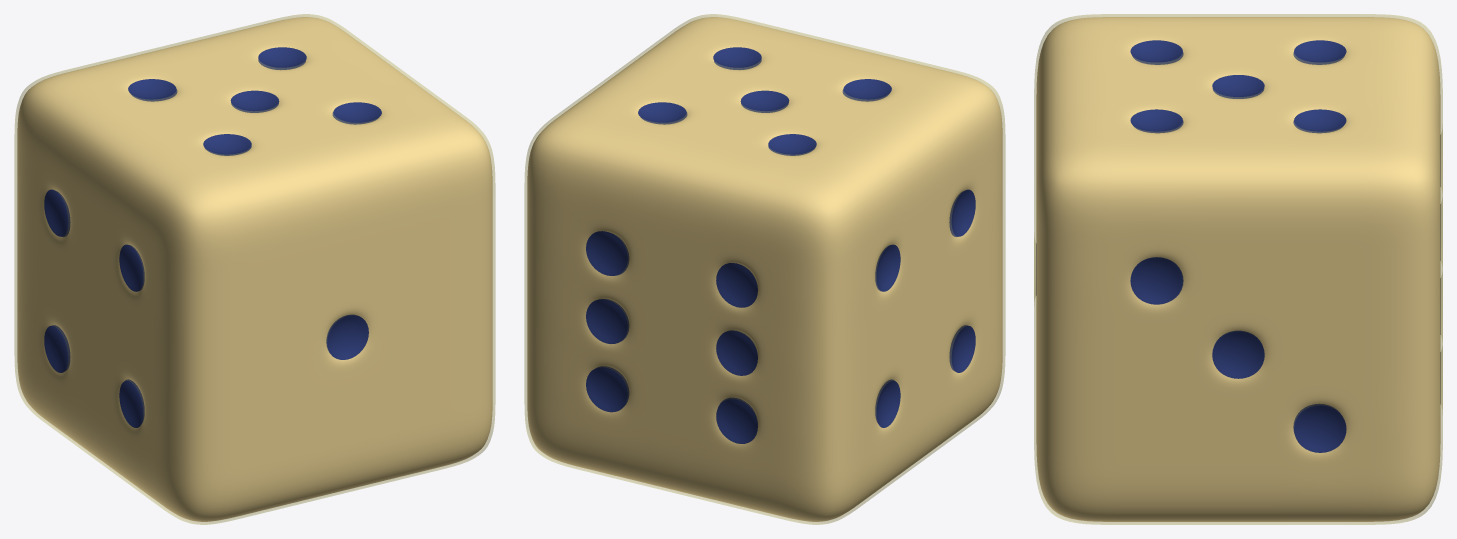
3 views of the same model, side by side, from view 1: azimuth 30°, elevation 25°; view 2: azimuth 150°, elevation 25°; view 3: azimuth 270°, elevation 25° (orthographic). The views are drawn at different scales.
Visible parts, largest first — view 1: 1outer cube, 2middle cube; view 2: 1outer cube, 2middle cube; view 3: 1outer cube, 2middle cube.
Part boxes in pixels (left/top/right/bottom): 1outer cube: left=14, top=14, right=495, bottom=524; 2middle cube: left=17, top=17, right=492, bottom=521; 1outer cube: left=524, top=14, right=1005, bottom=524; 2middle cube: left=527, top=17, right=1002, bottom=521; 1outer cube: left=1034, top=14, right=1442, bottom=524; 2middle cube: left=1036, top=17, right=1440, bottom=521.
Bounding box in the file's own units: 2.01 × 2.01 × 2.01.
